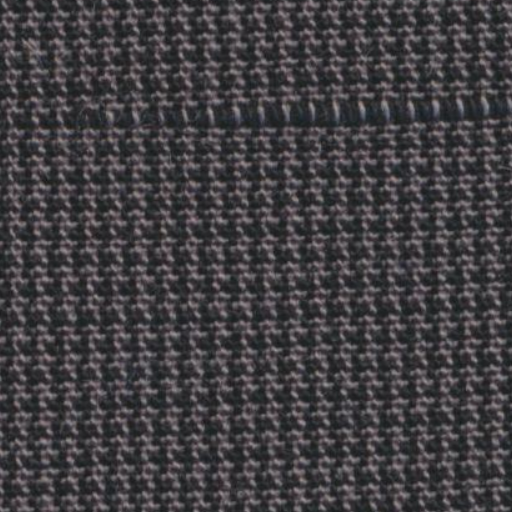DaiSha: (24, 90, 500, 138)
